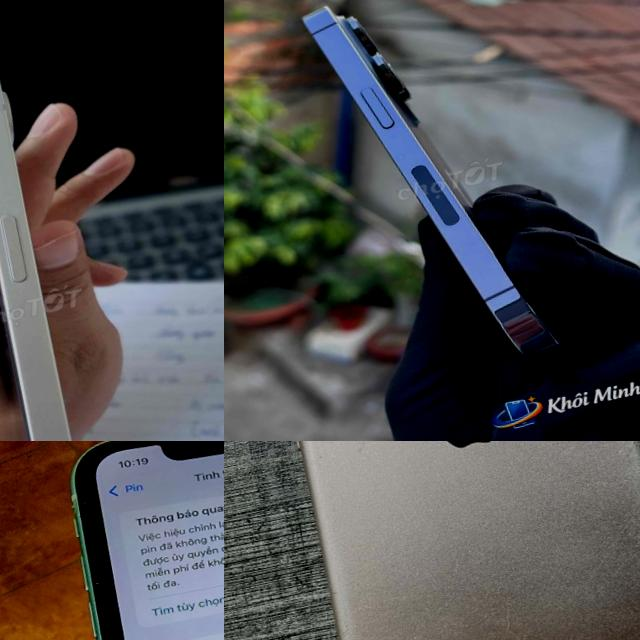scratch: (565, 520, 640, 592), (494, 597, 524, 640), (316, 451, 324, 460)
